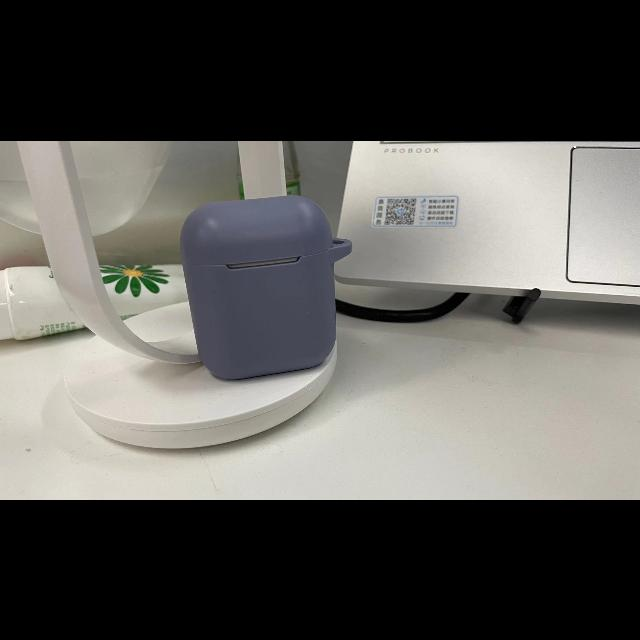airpods: (178, 194, 354, 381)
